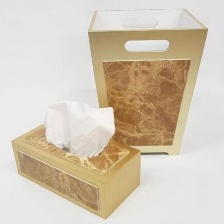plastic_box: (80, 0, 213, 160), (6, 116, 147, 223)
tissue: (37, 97, 122, 161)
